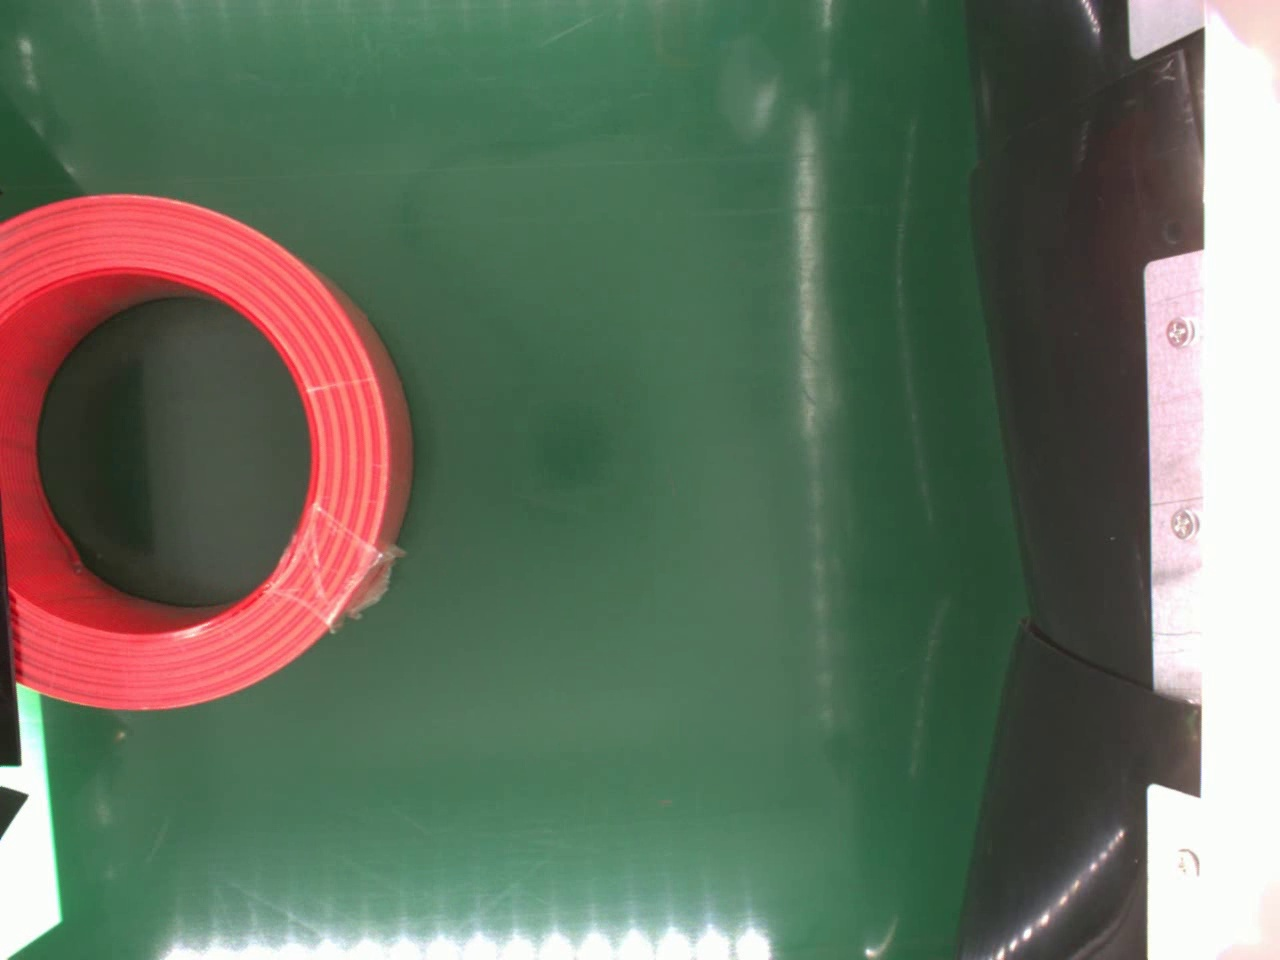red: (0, 192, 410, 709)
